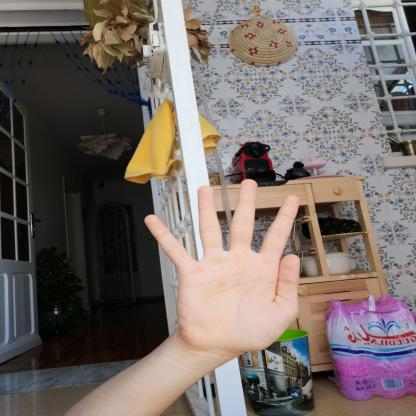SHEEN: (135, 172, 316, 359)
